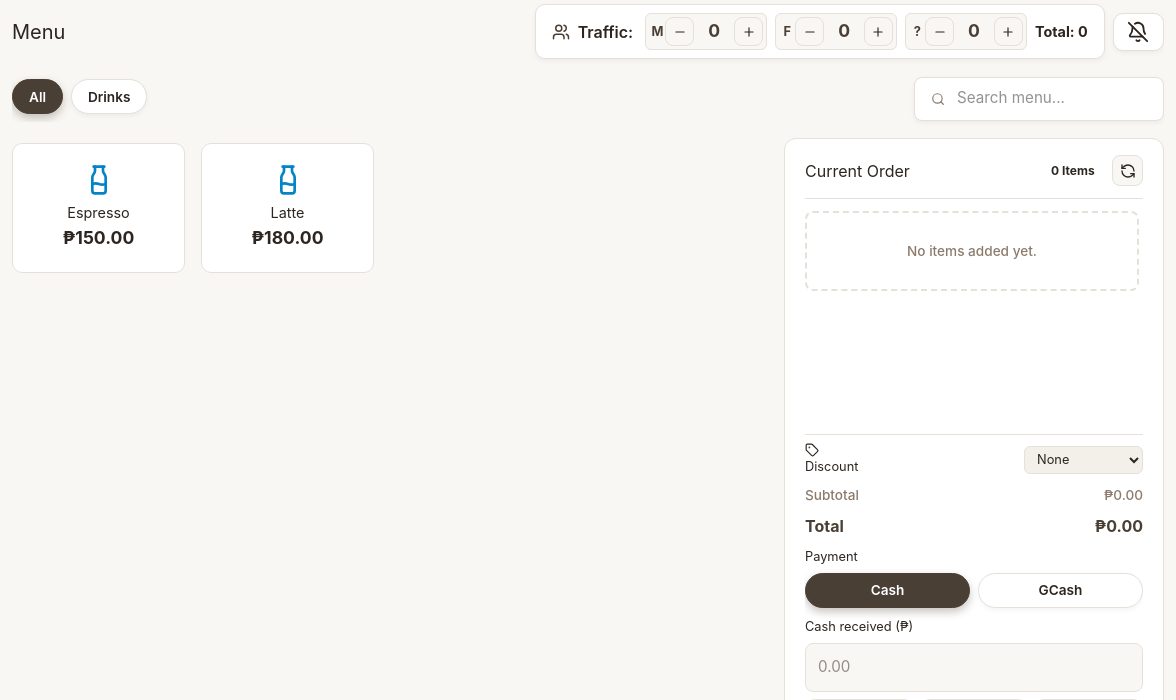
Test case: MainPOS › should sum male + female + unspecified into the traffic total
Expected: the number field with test id "male-count-input" is shown, [694, 18, 734, 45]
Click the button named "Increase male count" at (748, 32), box [734, 17, 763, 46]
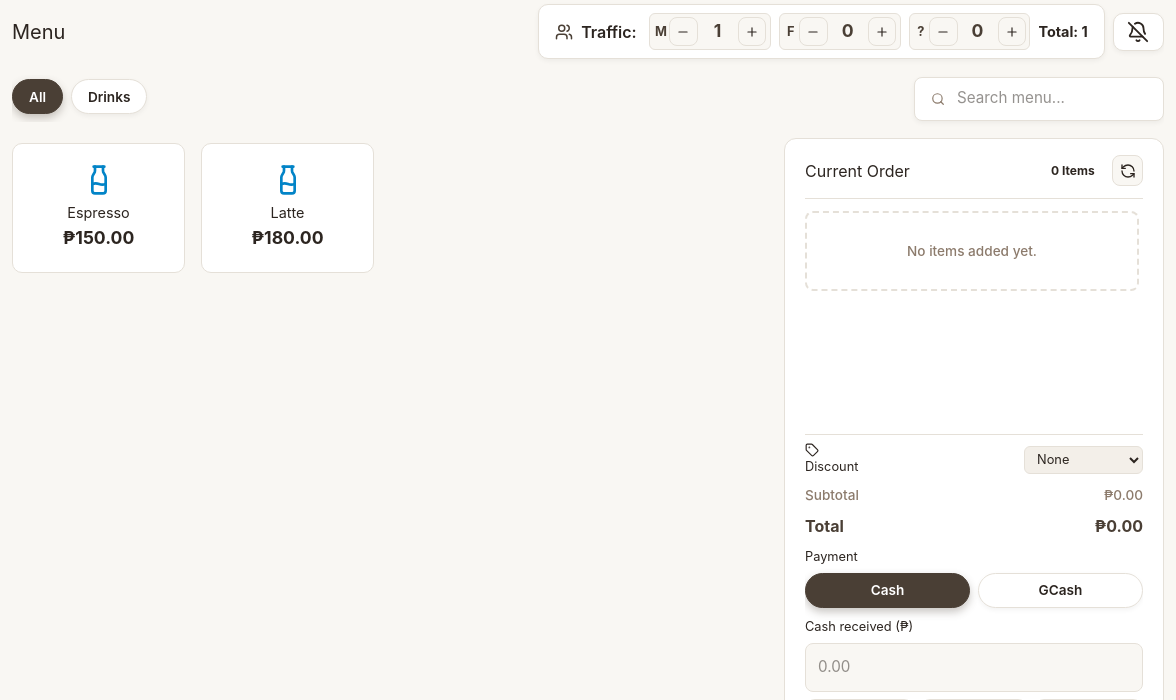
Click the button named "Increase male count" at (752, 32), box [738, 17, 766, 46]
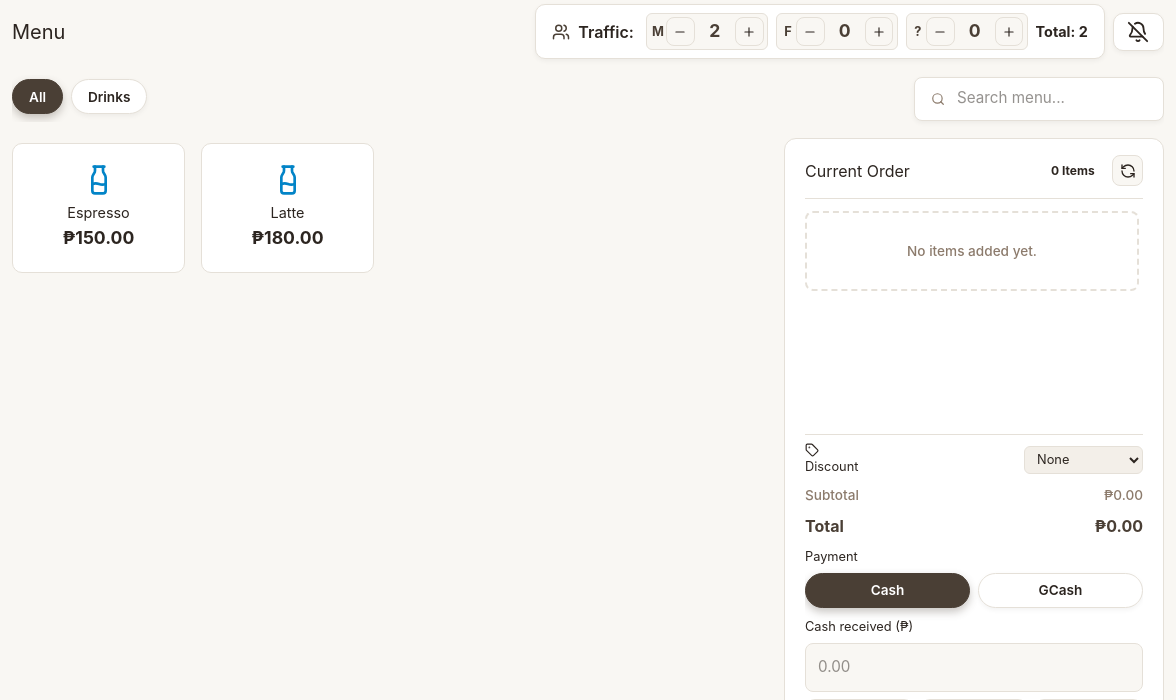
Click the button named "Increase female count" at (879, 32), box [865, 17, 894, 46]
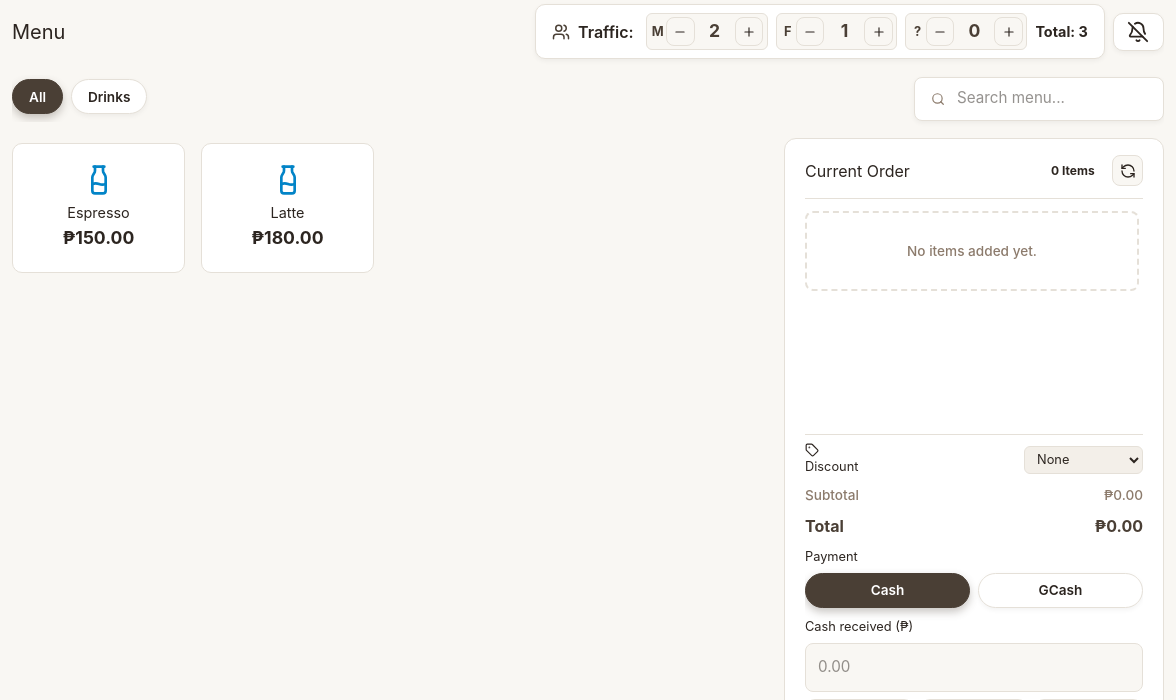
Expected: the text with test id "traffic-total" reads "Total: 3", [1035, 21, 1088, 42]
